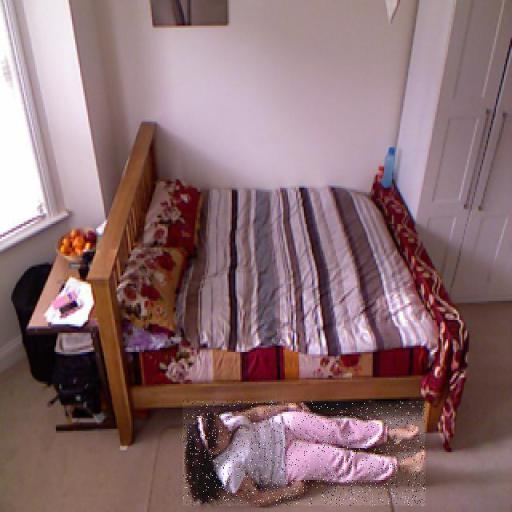Fall: (183, 401, 426, 506)
